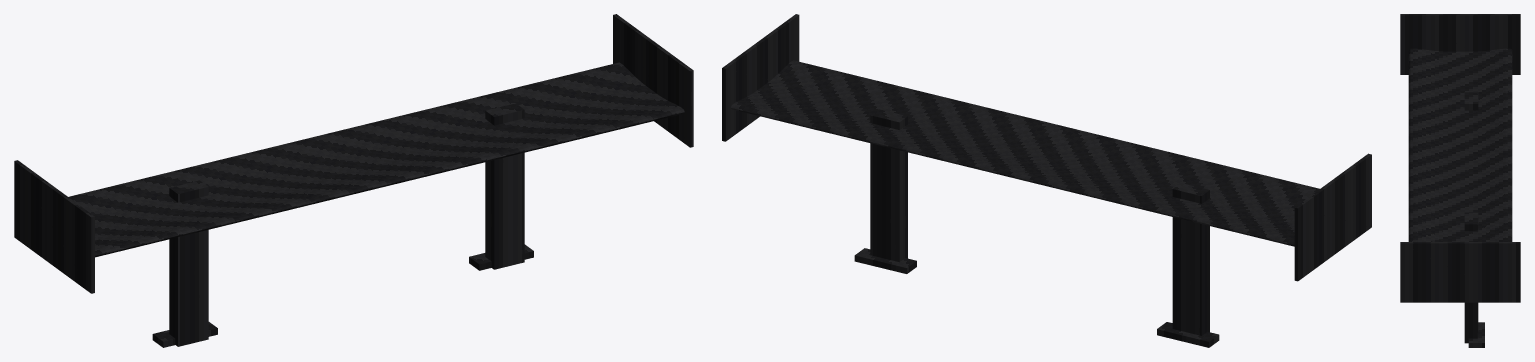
File: wing_drift.obj
3 renders of one model, left to right at view 1: azimuth 30°, elevation 25°; view 2: azimuth 150°, elevation 25°; view 3: azimuth 270°, elevation 25°, orthographic. The views are drawn at different scales.
Bounding box in the file's own units: 1.98 × 0.6 × 0.44.
1 material, 1 textured.
